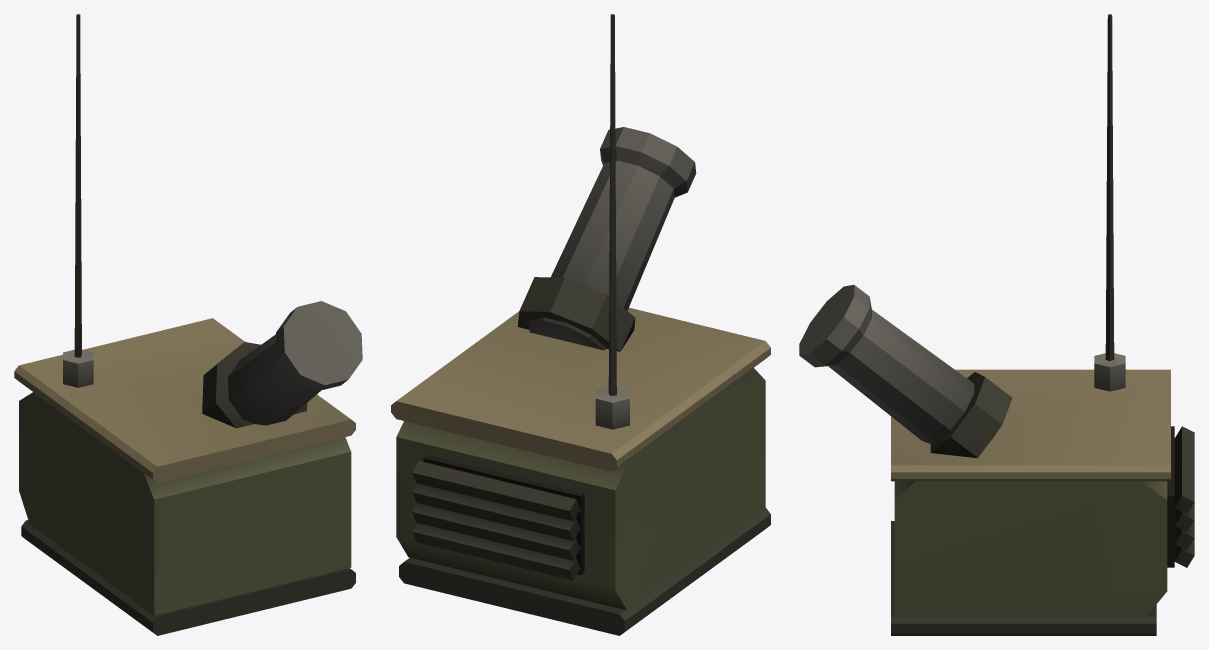
The model's file is sh-artillery.glb.
The picture shows the model from 3 angles, left to right: view 1: azimuth 30°, elevation 25°; view 2: azimuth 150°, elevation 25°; view 3: azimuth 270°, elevation 25°; orthographic projection. The views are drawn at different scales.
Parts seen in each view (by area): view 1: Body; view 2: Body; view 3: Body.
Part boxes in pixels (x1,y1,x2,y2): Body: (14,14,362,635); Body: (391,14,770,635); Body: (799,14,1194,635).
Size of the model in its own units: 0.66 by 1.66 by 1.1.
